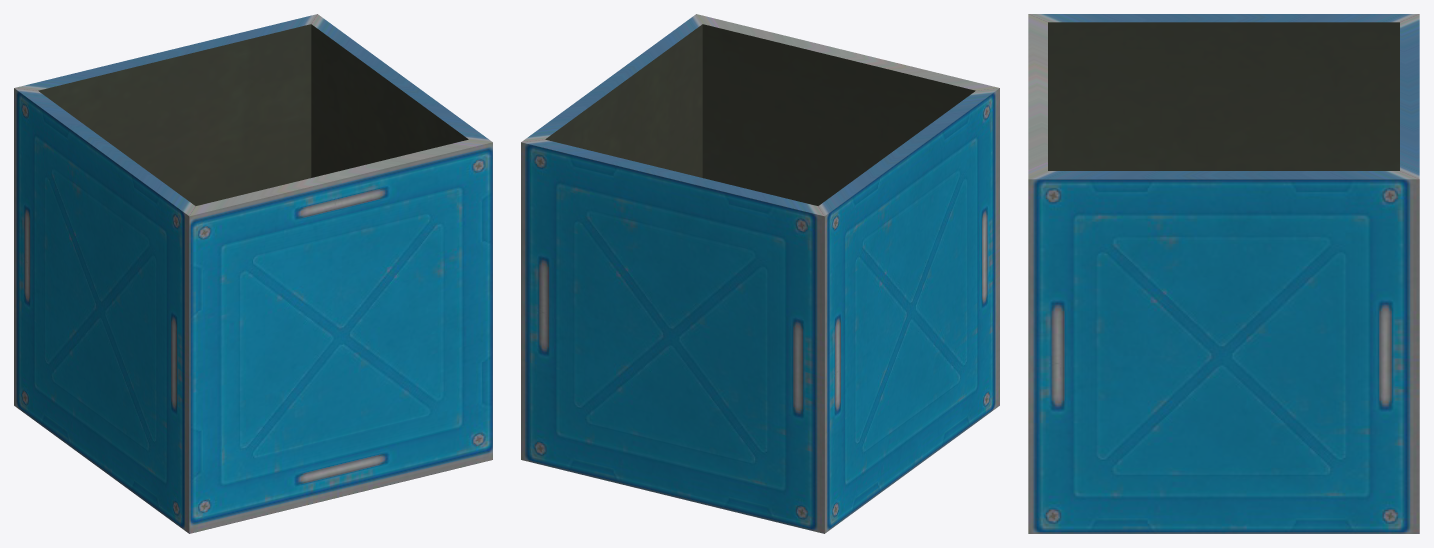
Rendered from SmallBox_02.fbx.
3 views of the same model, side by side, from view 1: azimuth 30°, elevation 25°; view 2: azimuth 150°, elevation 25°; view 3: azimuth 270°, elevation 25° (orthographic). The views are drawn at different scales.
Parts seen in each view (by area): view 1: SmallBox_02; view 2: SmallBox_02; view 3: SmallBox_02.
Boxes of the visible parts, bbox=[...] form: SmallBox_02: bbox=[14, 14, 492, 533]; SmallBox_02: bbox=[521, 14, 999, 533]; SmallBox_02: bbox=[1028, 14, 1419, 533].
Bounding box in the file's own units: 36.97 × 36.97 × 36.97.
